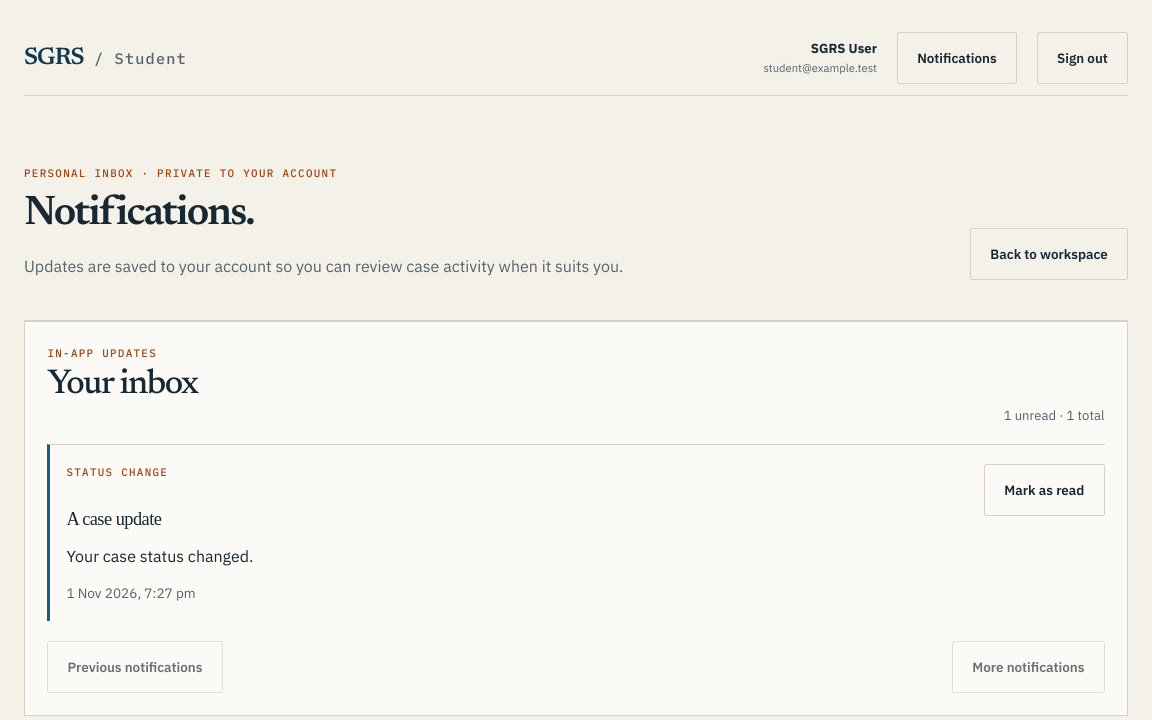
Test case: Phase 6 administration interfaces › lets a recipient mark an in-app notification read
This screenshot has width=1152, height=720.
Expected: the heading "A case update" is shown, 66,509 -> 161,529
Click the button "Mark as read": (1044, 490) 984,464 -> 1105,516
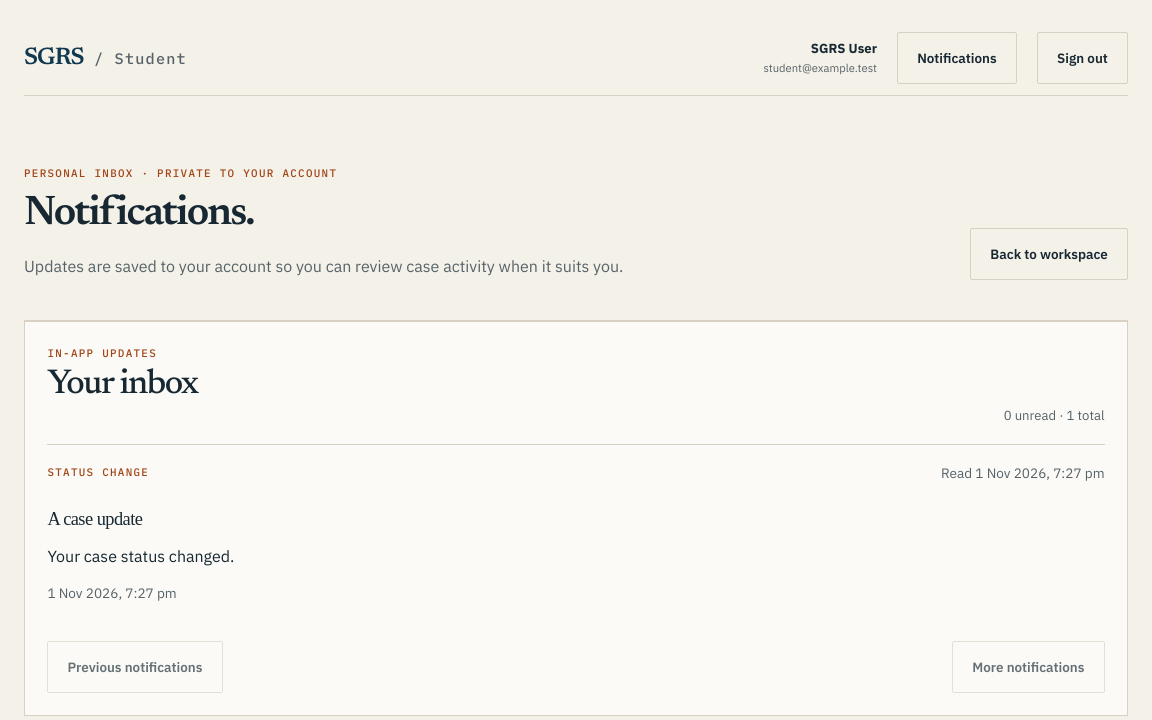
Expected: the button "Mark as read" is gone
